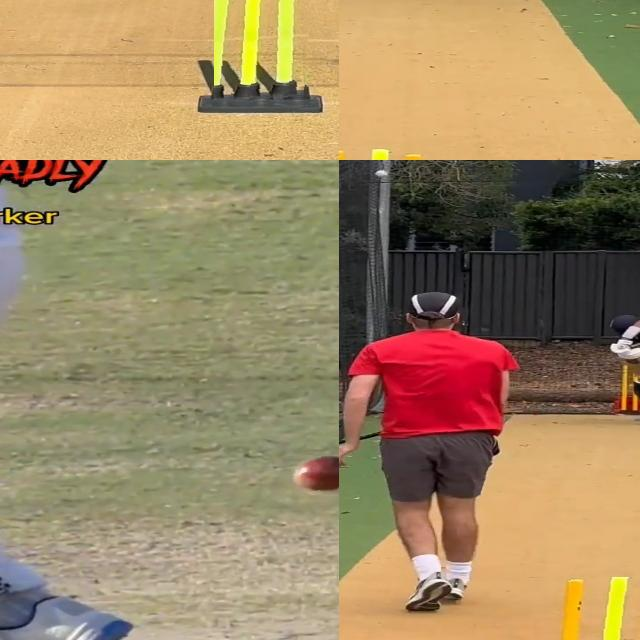Cricket ball: (291, 455, 339, 495)
Stumps: (214, 0, 316, 101), (542, 576, 640, 640)
